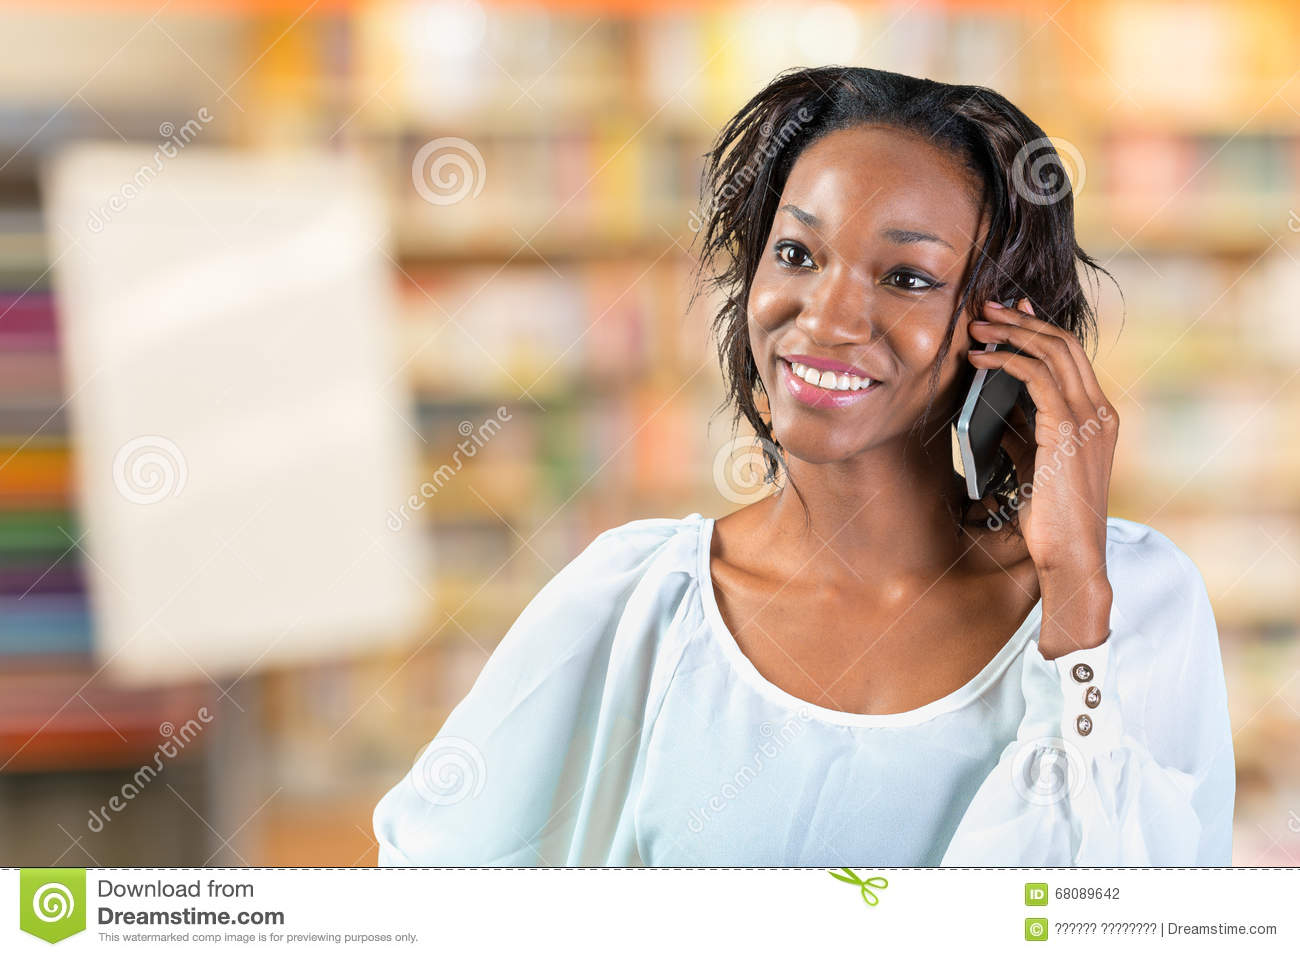phone: (955, 286, 1030, 504)
talk: (749, 191, 1116, 663)
